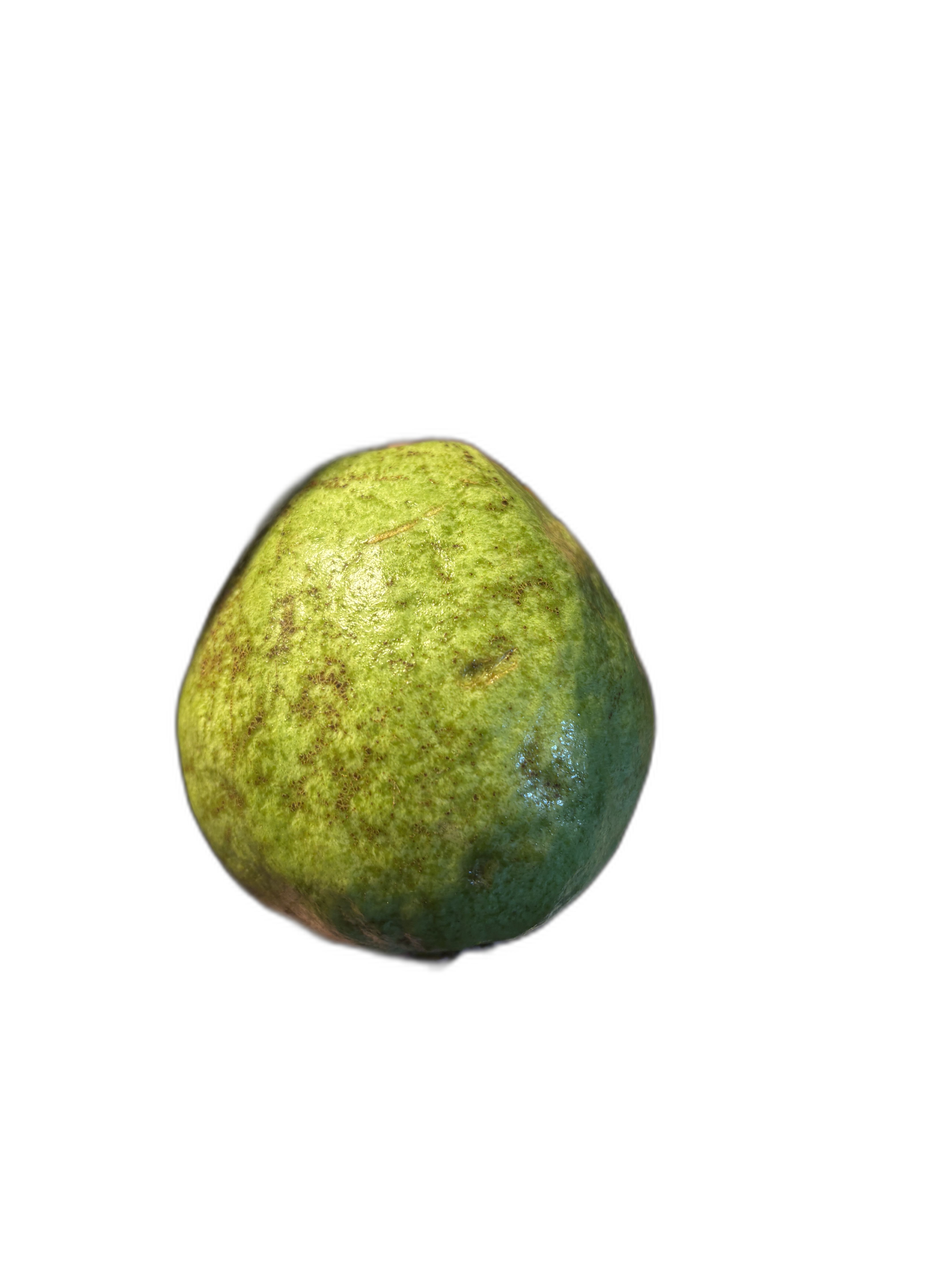guava: (265, 275, 838, 1171)
